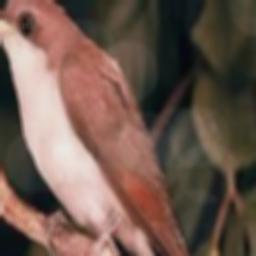Cuckoo: (0, 0, 210, 256)
